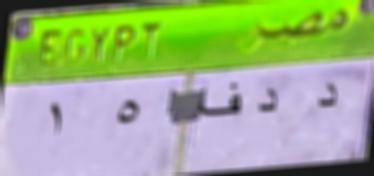1: (44, 92, 68, 140)
5: (116, 94, 141, 130)
daal: (308, 74, 342, 117), (253, 80, 284, 120)
faa: (192, 79, 244, 121)
